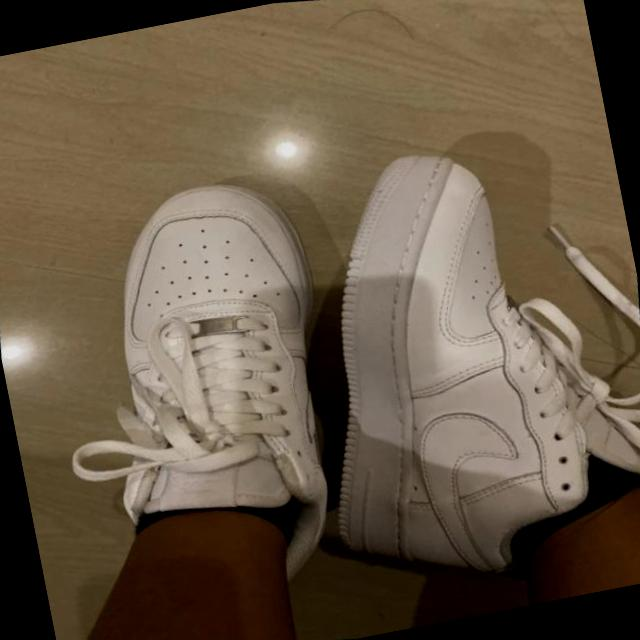nike_fake_airforce: (261, 105, 640, 620), (48, 151, 388, 624)
